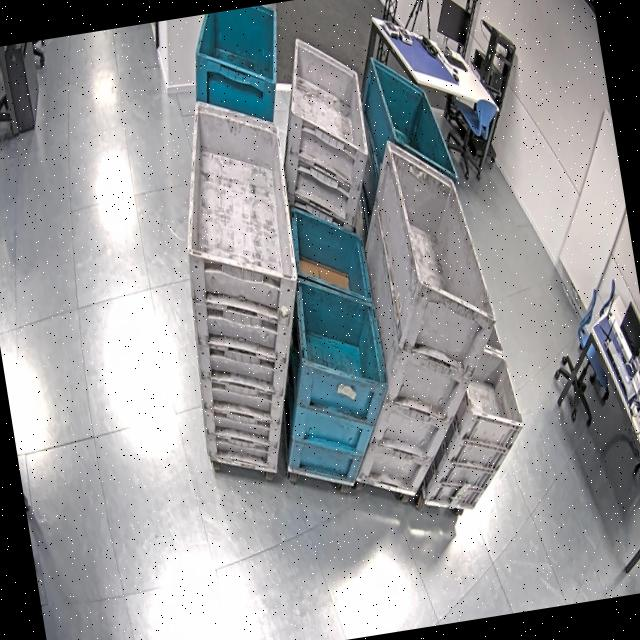Box3G: (152, 87, 334, 487), (246, 25, 397, 326)
Box4G: (302, 122, 524, 508)
Box8G: (386, 286, 536, 520)
BoxB4: (170, 3, 334, 382), (320, 41, 480, 323)
BoxB8: (246, 198, 405, 496)
